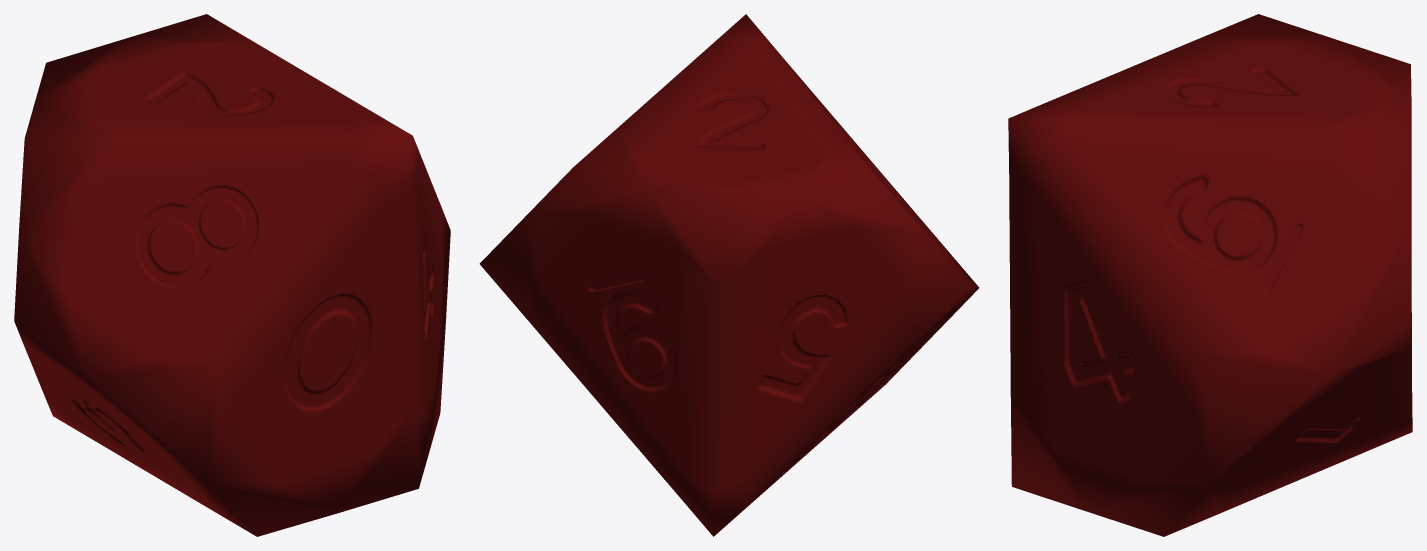
The model's file is die_10.glb.
3 renders of one model, left to right at view 1: azimuth 30°, elevation 25°; view 2: azimuth 150°, elevation 25°; view 3: azimuth 270°, elevation 25°, orthographic. The views are drawn at different scales.
Bounding box in the file's own units: 51373 × 39213 × 36433.
